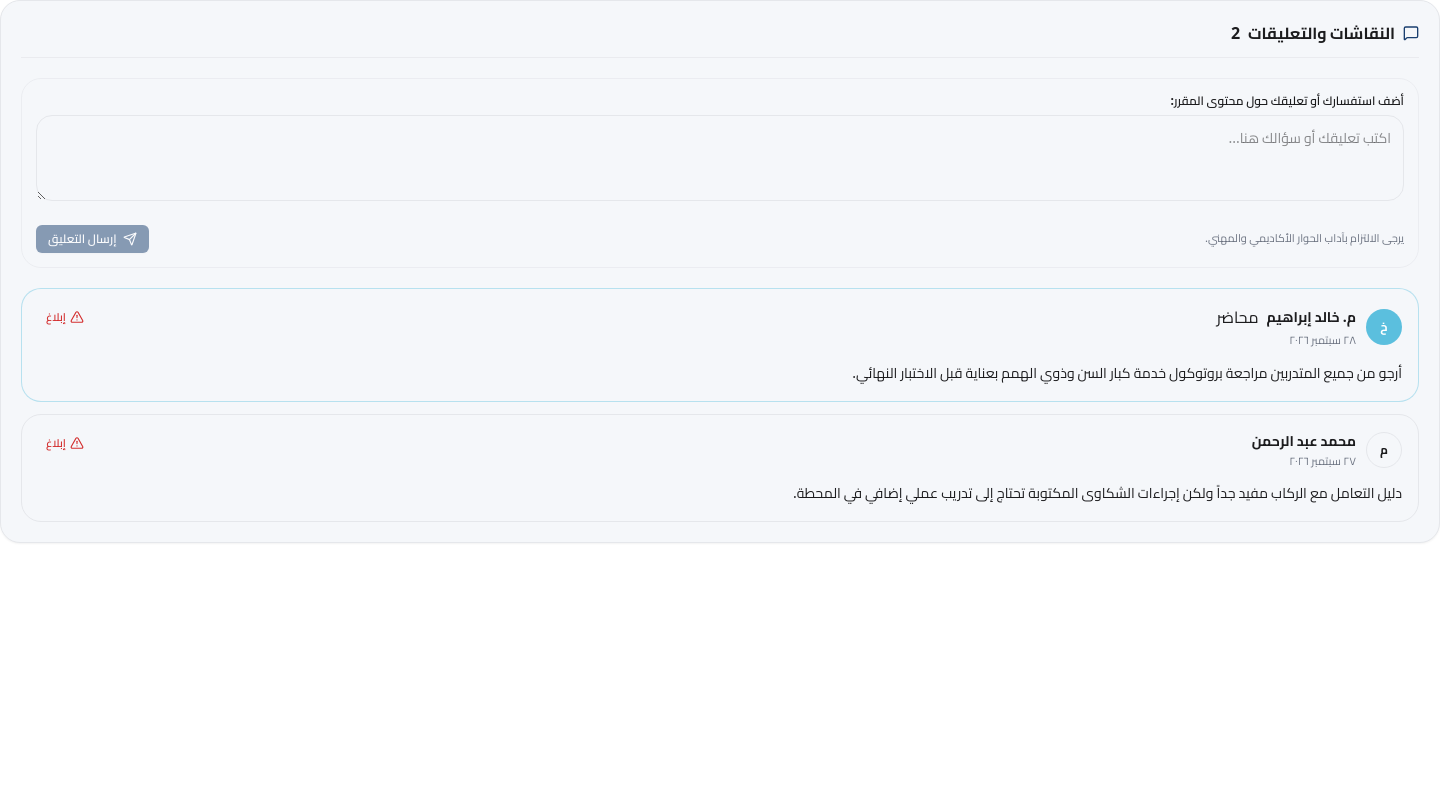
Test: Increment 11 — Phase 5C: Course Discussion UI & Reporting Dialog › 3. Comment Reporting Dialog & Workflow › successfully submits a report, updates report state to "تم الإبلاغ ✓", and does NOT delete comment
Check: the element with test id "comment-card-CMT005" is shown, box 21,288 -> 1419,402
// Click report on CMT005
Click the button with test id "report-comment-btn-CMT005" at {"x": 65, "y": 317}, box 38,305 -> 92,330
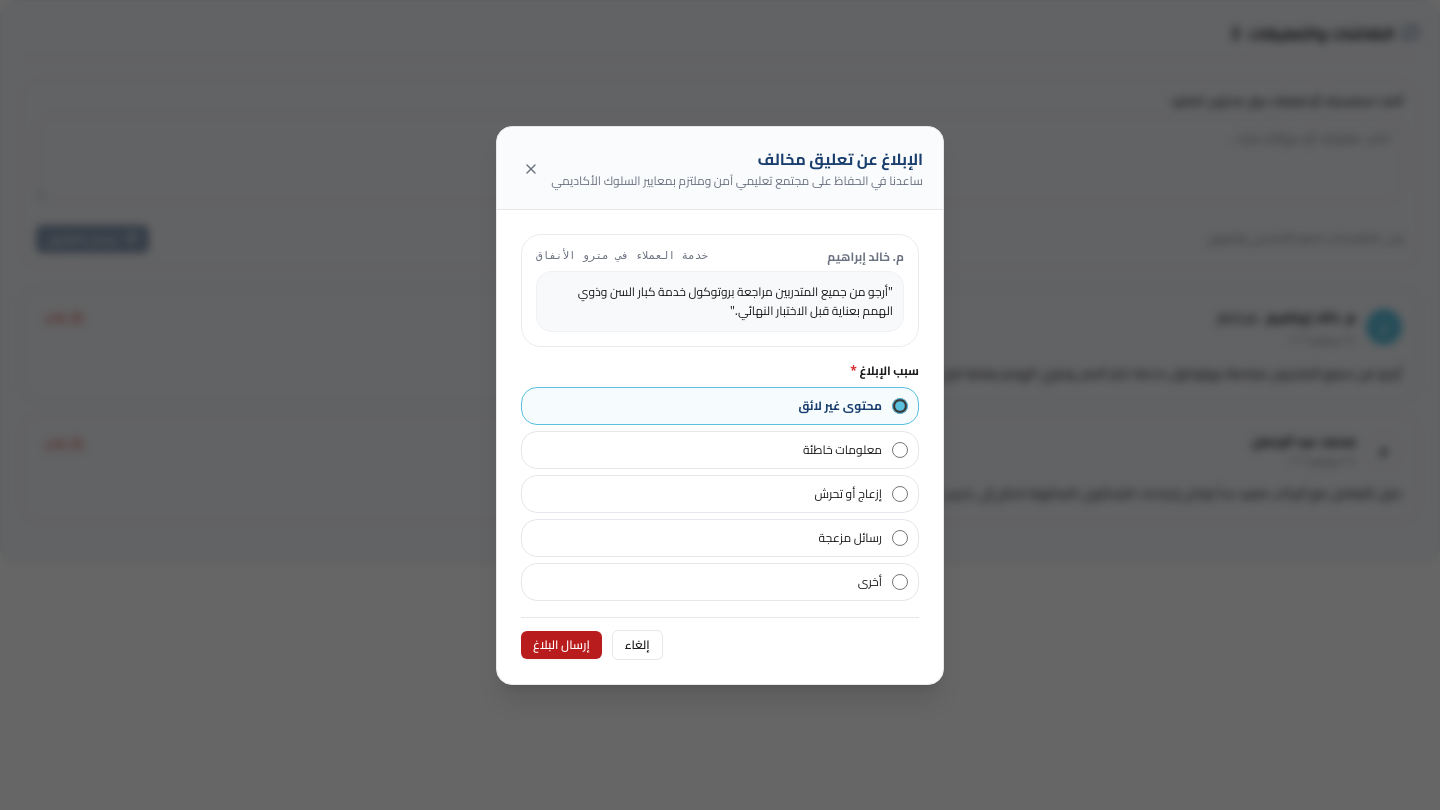
Check: the dialog with test id "report-comment-modal" is shown
// Select "معلومات خاطئة"
Click the radio button with test id "report-reason-radio-misinformation" at {"x": 900, "y": 450}, box 892,442 -> 908,458
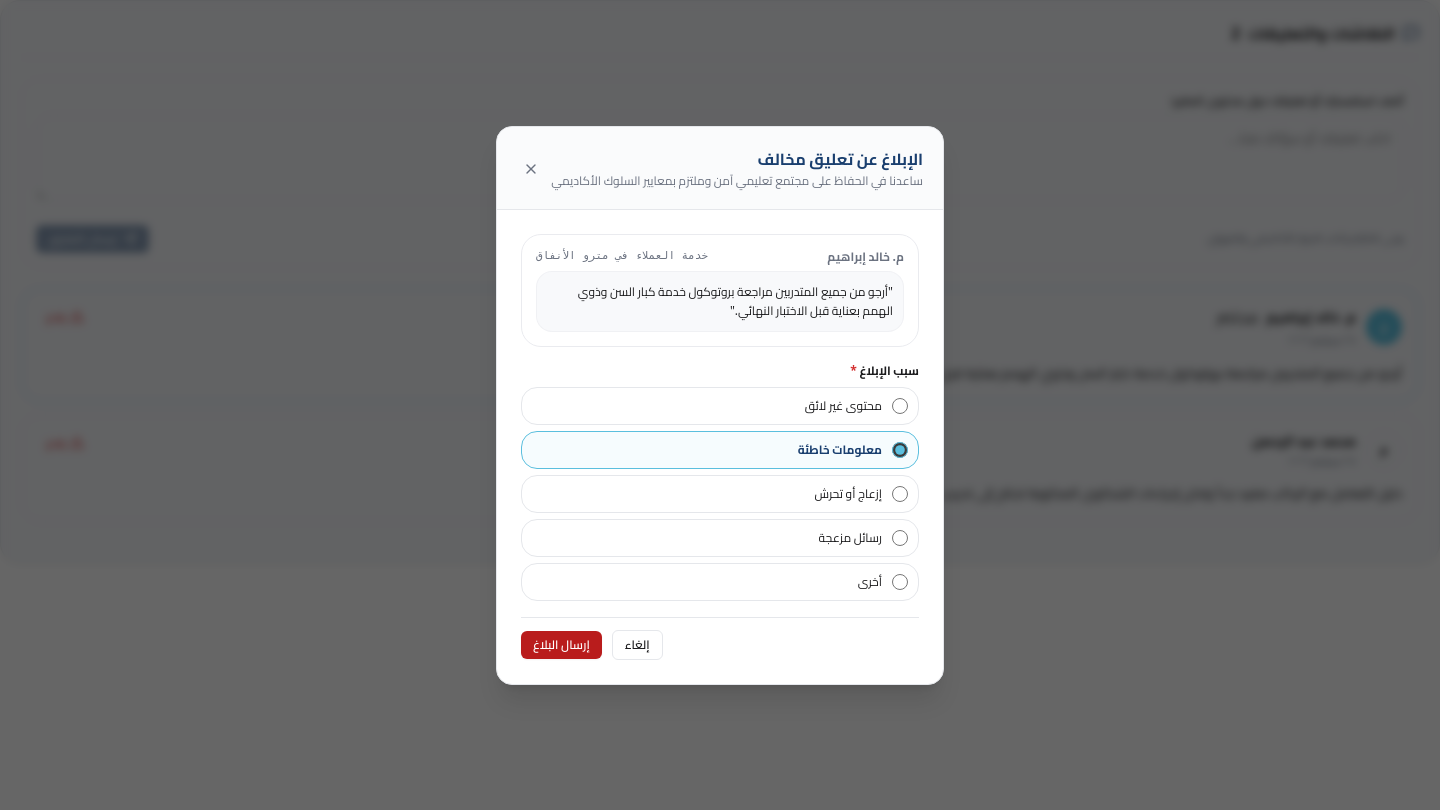
// Submit report
Click the button with test id "submit-report-btn" at {"x": 561, "y": 644}, box 521,630 -> 602,658
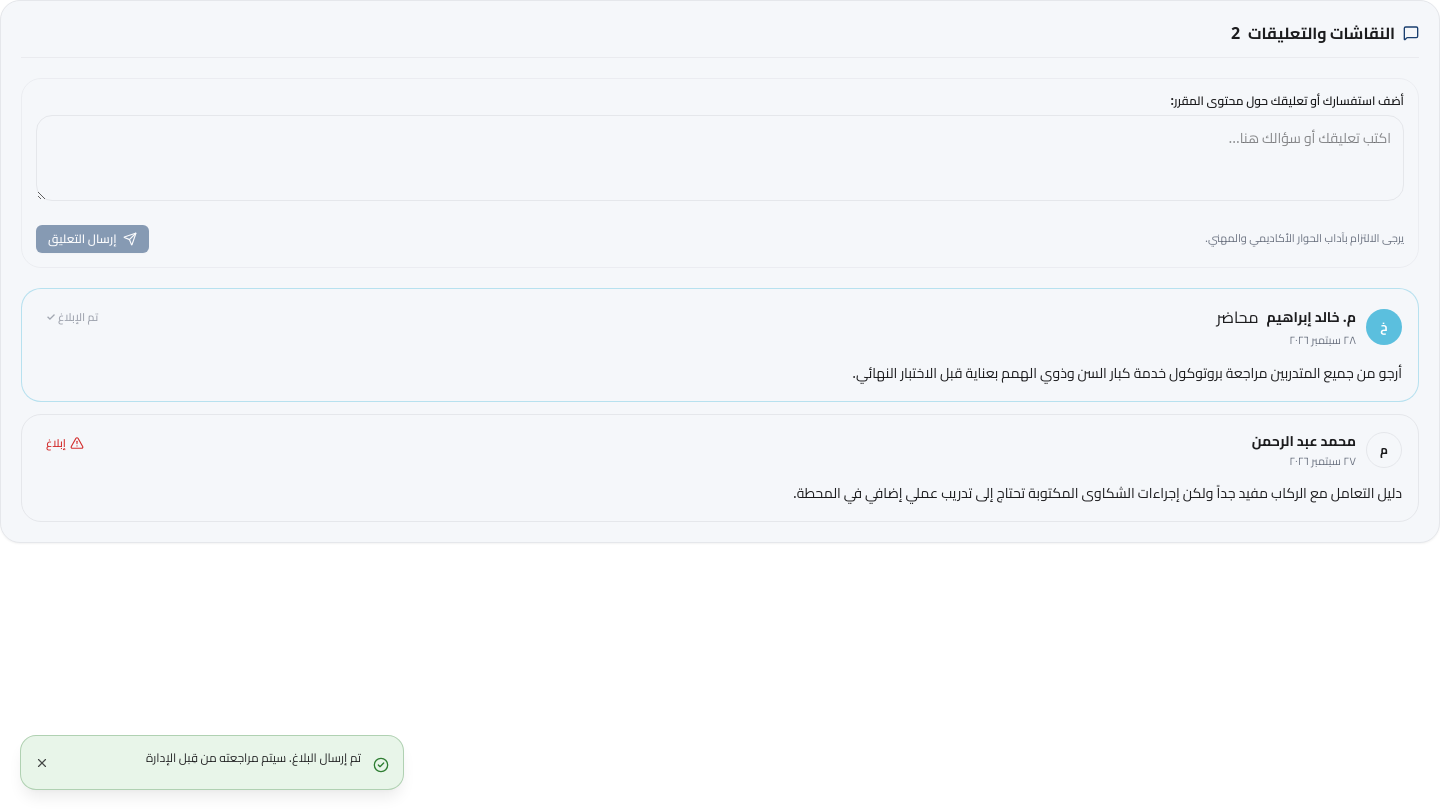
Check: the dialog with test id "report-comment-modal" is gone
Check: the button with test id "comment-reported-CMT005" reads "تم الإبلاغ ✓", box 38,305 -> 106,330
Check: the button with test id "comment-reported-CMT005" is disabled, box 38,305 -> 106,330
